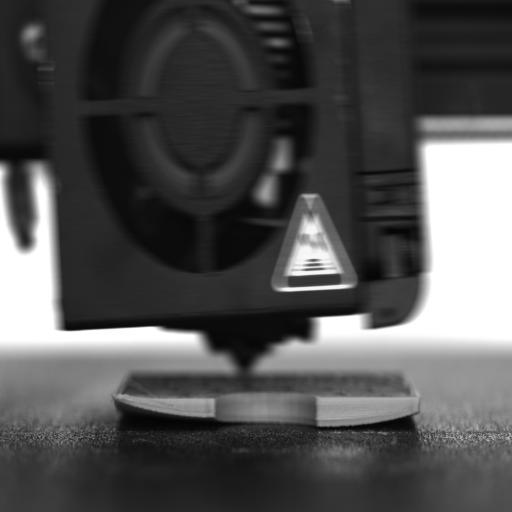warp: (110, 392, 212, 428), (348, 399, 422, 432)
